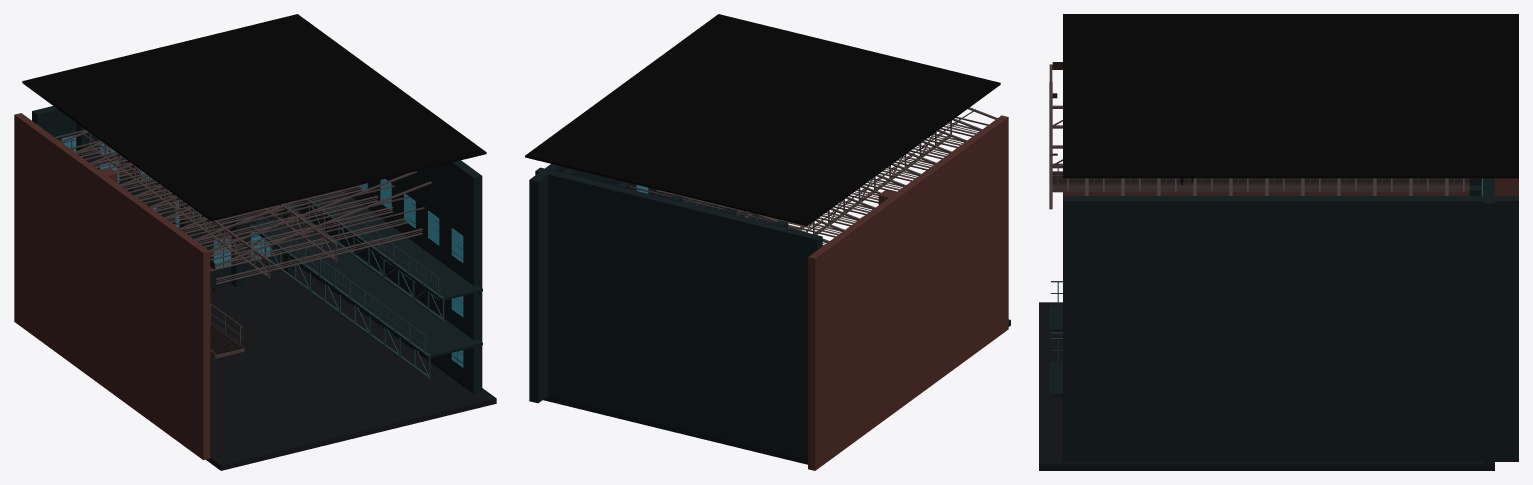
File: passerelle-halle.glb
The picture shows the model from 3 angles, left to right: view 1: azimuth 30°, elevation 25°; view 2: azimuth 150°, elevation 25°; view 3: azimuth 270°, elevation 25°; orthographic projection. The views are drawn at different scales.
Visible parts, largest first — view 1: plafond_sombre, mur, sol_halle, mur_droit, dalle (×2), mur_fond, chevron (×2), membrure_basse (×2), piliers_fond; view 2: mur_fond, plafond_sombre, mur, mur_droit, sol_halle; view 3: mur_droit, plafond_sombre, sol_halle, mur_fond, longeron, barre_portante (×3), mur, plinthe.
Part boxes in pixels (x1=…): plafond_sombre: x1=22, y1=14, x2=486, y2=221; mur: x1=14, y1=113, x2=210, y2=459; sol_halle: x1=206, y1=267, x2=496, y2=470; mur_droit: x1=299, y1=160, x2=482, y2=393; dalle (×2): x1=249, y1=189, x2=482, y2=358; mur_fond: x1=32, y1=106, x2=299, y2=288; chevron (×2): x1=209, y1=171, x2=431, y2=266; membrure_basse (×2): x1=252, y1=203, x2=444, y2=379; piliers_fond: x1=231, y1=213, x2=244, y2=287; mur_fond: x1=535, y1=167, x2=822, y2=459; plafond_sombre: x1=525, y1=14, x2=1000, y2=225; mur: x1=808, y1=115, x2=1008, y2=470; mur_droit: x1=529, y1=164, x2=725, y2=403; sol_halle: x1=543, y1=319, x2=1010, y2=464; mur_droit: x1=1063, y1=196, x2=1518, y2=461; plafond_sombre: x1=1063, y1=14, x2=1518, y2=178; sol_halle: x1=1039, y1=302, x2=1494, y2=470; mur_fond: x1=1483, y1=178, x2=1494, y2=464; longeron: x1=1052, y1=187, x2=1469, y2=192; barre_portante (×3): x1=1053, y1=179, x2=1469, y2=183; mur: x1=1063, y1=178, x2=1518, y2=195; plinthe: x1=1052, y1=185, x2=1469, y2=187.
Size of what is drawn, in the model's own units: 16.45 by 13.55 by 20.
